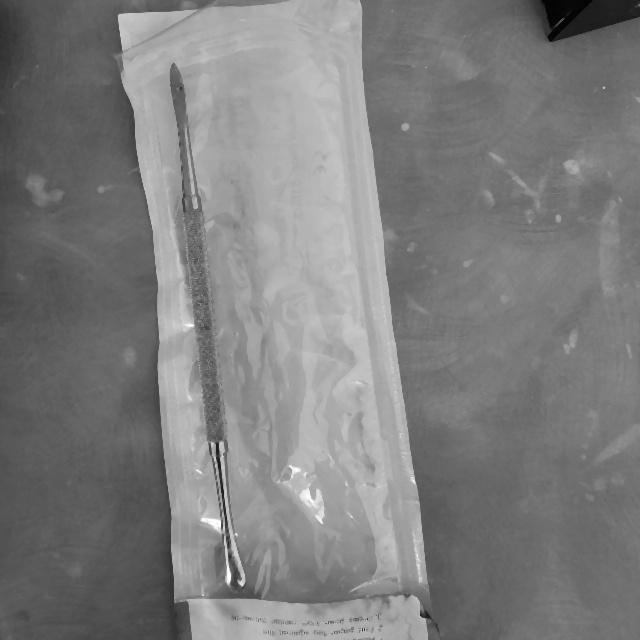elevador: (170, 64, 249, 592)
